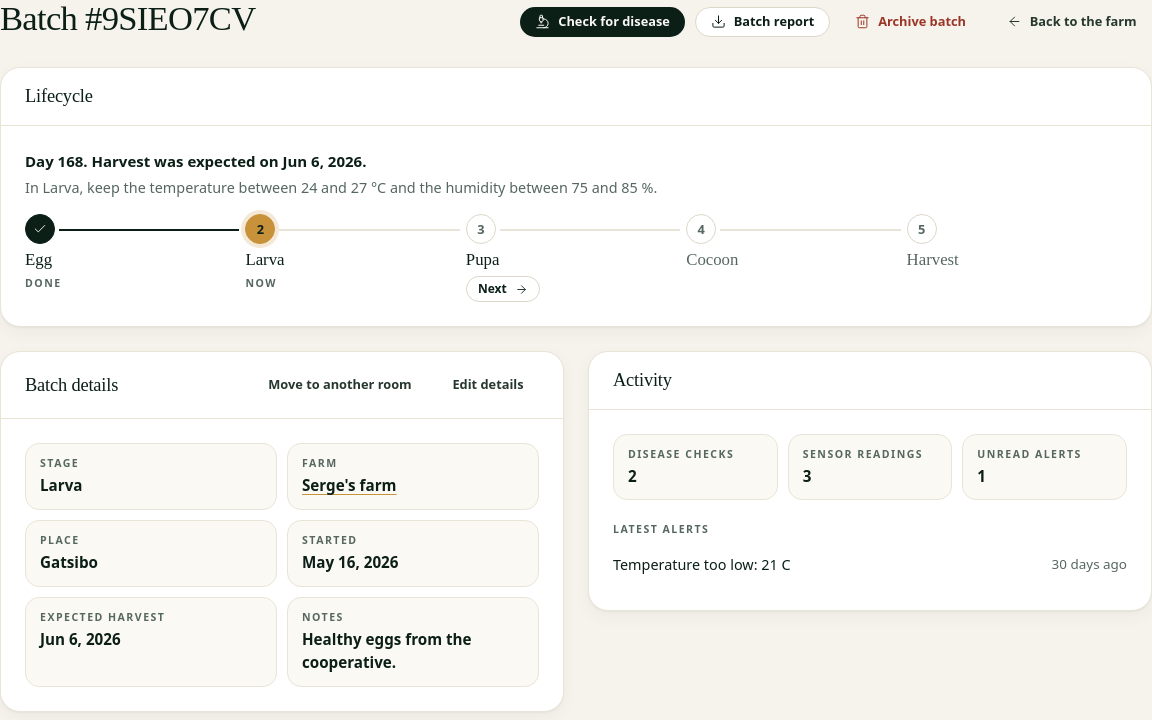
Test: Batch details page › leaves the stage alone when the question is cancelled
Click the button with aria-label "Move to Pupa" at (503, 289), box x1=466 y1=276 x2=540 y2=302
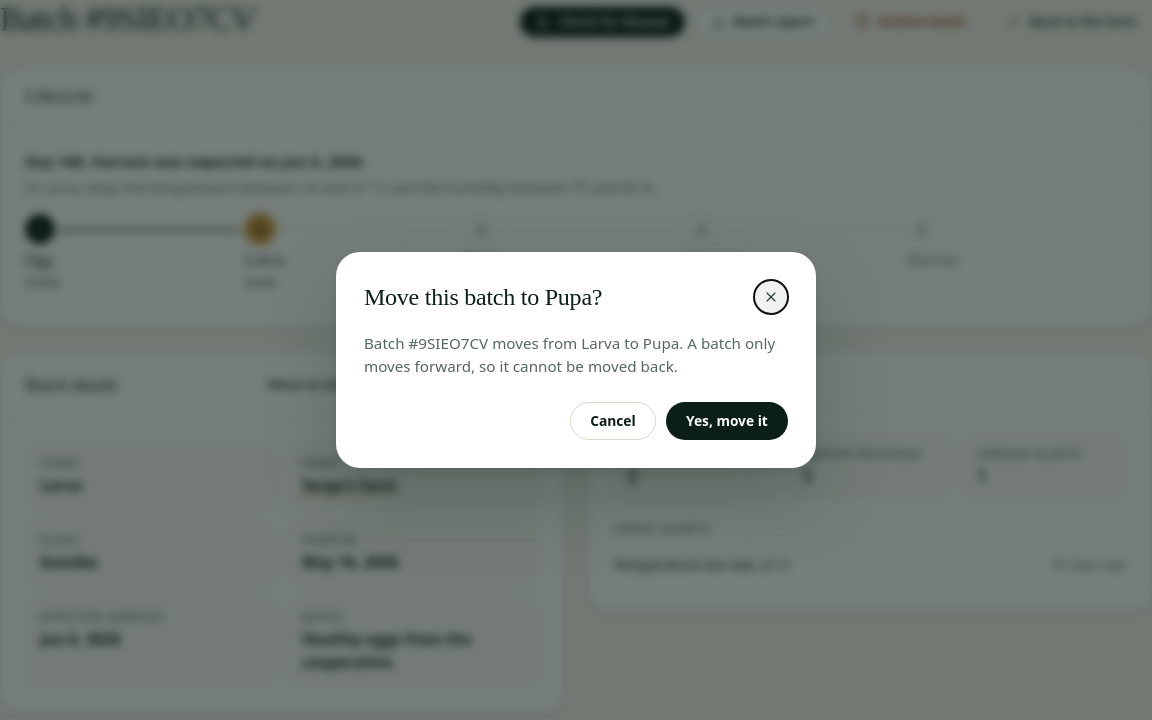
Click the button "Cancel" at (613, 421), box x1=570 y1=402 x2=656 y2=440
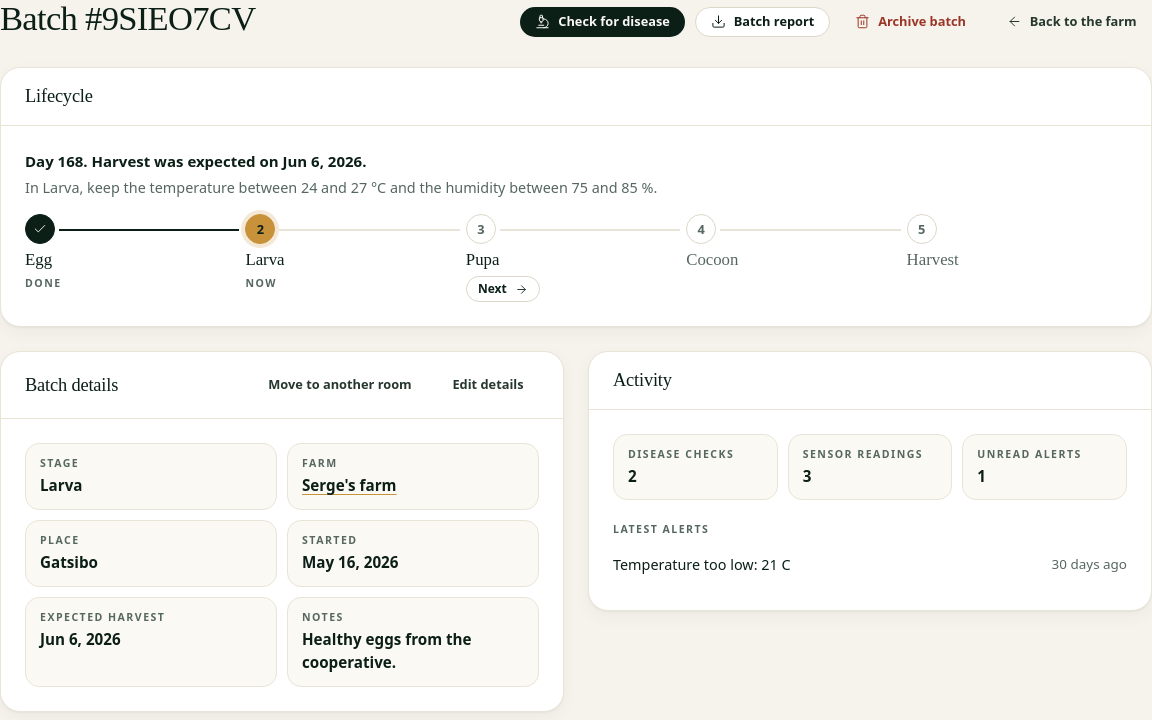
Now the dialog is gone
